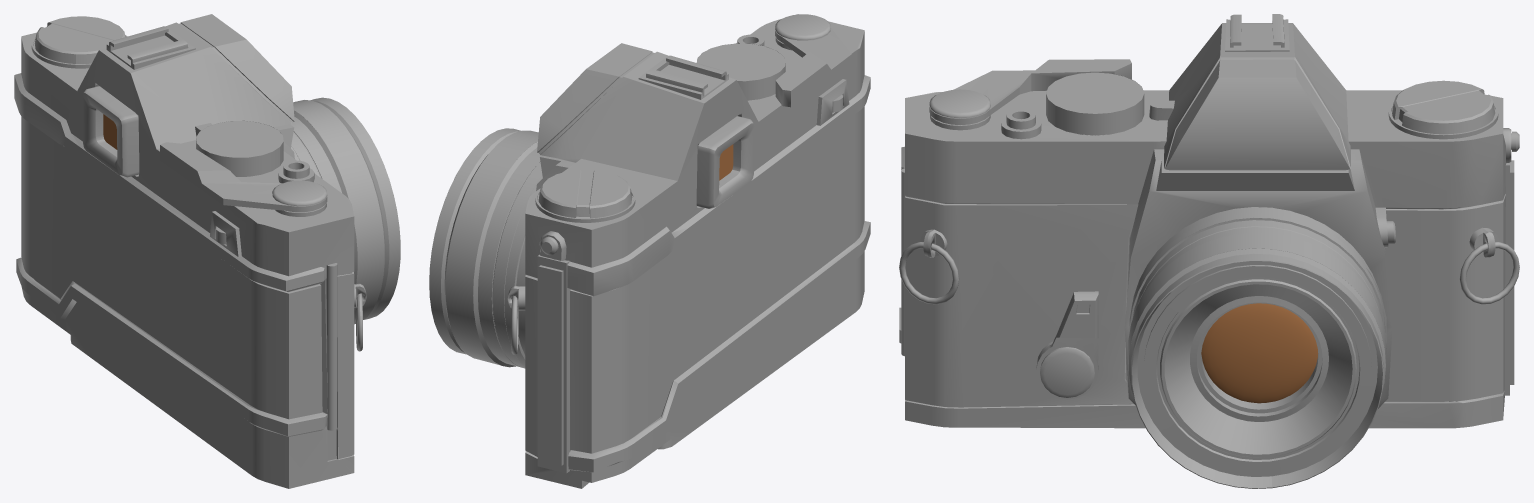
Rendered from gap-konica-autoreflex-tc.fbx.
The picture shows the model from 3 angles, left to right: view 1: azimuth 30°, elevation 25°; view 2: azimuth 150°, elevation 25°; view 3: azimuth 270°, elevation 25°; orthographic projection. The views are drawn at different scales.
Parts seen in each view (by area): view 1: CameraBody_LowPoly, Leather_LowPoly, Buttons_LowPoly, Ridges_LowPoly, LensHull_LowPoly, SideParts_LowPoly, Rings_LowPoly; view 2: CameraBody_LowPoly, Leather_LowPoly, LensHull_LowPoly, Buttons_LowPoly, Ridges_LowPoly, SideParts_LowPoly, Rings_LowPoly; view 3: CameraBody_LowPoly, Leather_LowPoly, LensHull_LowPoly, Buttons_LowPoly, CameraLens, Ridges_LowPoly, Rings_LowPoly, SideParts_LowPoly.
Boxes of the visible parts, box(x1,y1,x2,y2) form: CameraBody_LowPoly: box(14, 14, 354, 488); Leather_LowPoly: box(21, 116, 354, 458); Buttons_LowPoly: box(31, 16, 327, 244); Ridges_LowPoly: box(196, 100, 384, 323); LensHull_LowPoly: box(290, 97, 400, 323); SideParts_LowPoly: box(326, 262, 337, 430); Rings_LowPoly: box(354, 283, 366, 351); CameraBody_LowPoly: box(525, 14, 870, 488); Leather_LowPoly: box(525, 106, 864, 456); LensHull_LowPoly: box(429, 128, 542, 368); Buttons_LowPoly: box(535, 14, 851, 222); Ridges_LowPoly: box(445, 43, 785, 367); SideParts_LowPoly: box(537, 231, 571, 473); Rings_LowPoly: box(507, 286, 525, 354); CameraBody_LowPoly: box(899, 14, 1506, 428); Leather_LowPoly: box(905, 194, 1505, 406); LensHull_LowPoly: box(1129, 207, 1386, 488); Buttons_LowPoly: box(929, 59, 1498, 399); CameraLens: box(1201, 303, 1318, 403); Ridges_LowPoly: box(1046, 72, 1386, 370); Rings_LowPoly: box(899, 227, 1519, 304); SideParts_LowPoly: box(901, 128, 1519, 395).
Size of the model in its own units: 82.96 by 107 by 164.
